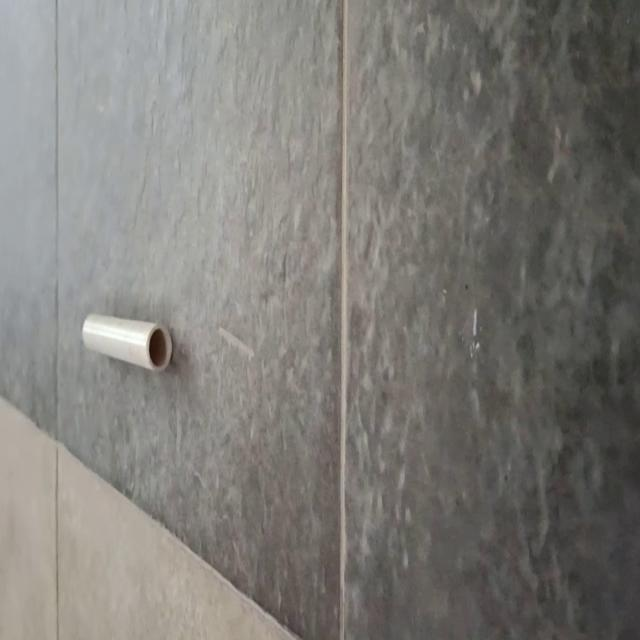Cube: (81, 311, 173, 373)
